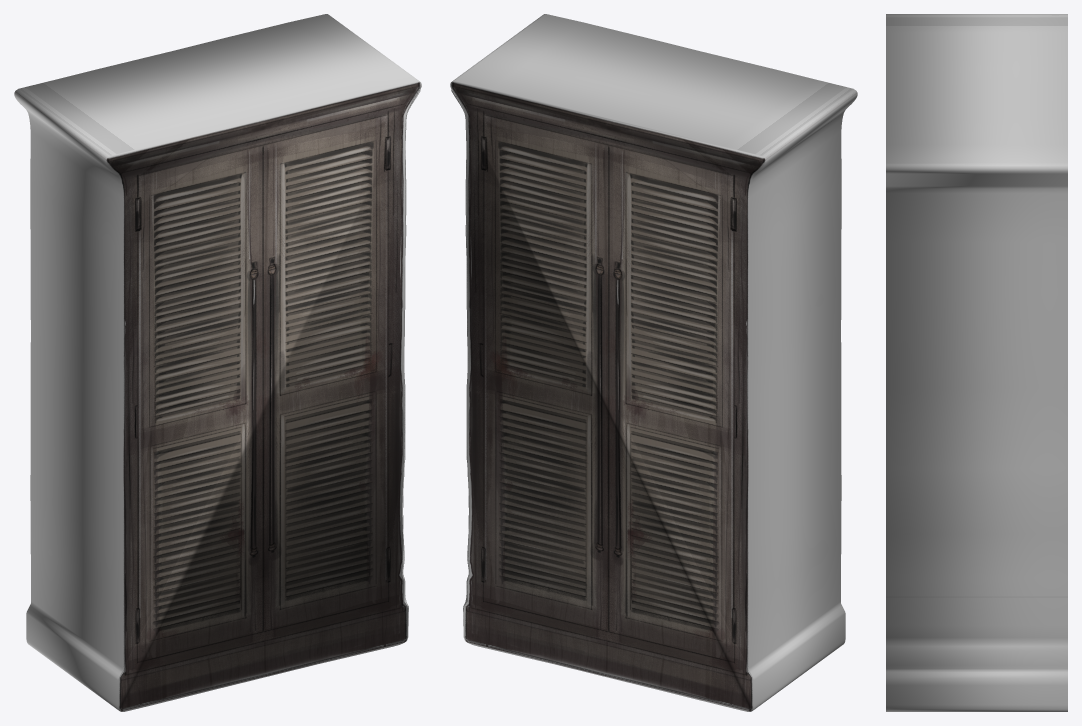
File: 客廳_百葉櫃.fbx
3 renders of one model, left to right at view 1: azimuth 30°, elevation 25°; view 2: azimuth 150°, elevation 25°; view 3: azimuth 270°, elevation 25°, orthographic.
Visible parts, largest first — view 1: 客廳_百葉櫃; view 2: 客廳_百葉櫃; view 3: 客廳_百葉櫃.
Boxes of the visible parts, x1,y1,x2,y2 form: 客廳_百葉櫃: (14, 14, 421, 711); 客廳_百葉櫃: (450, 14, 857, 711); 客廳_百葉櫃: (886, 14, 1067, 711).
Bounding box in the file's own units: 1195 × 2025 × 600.
